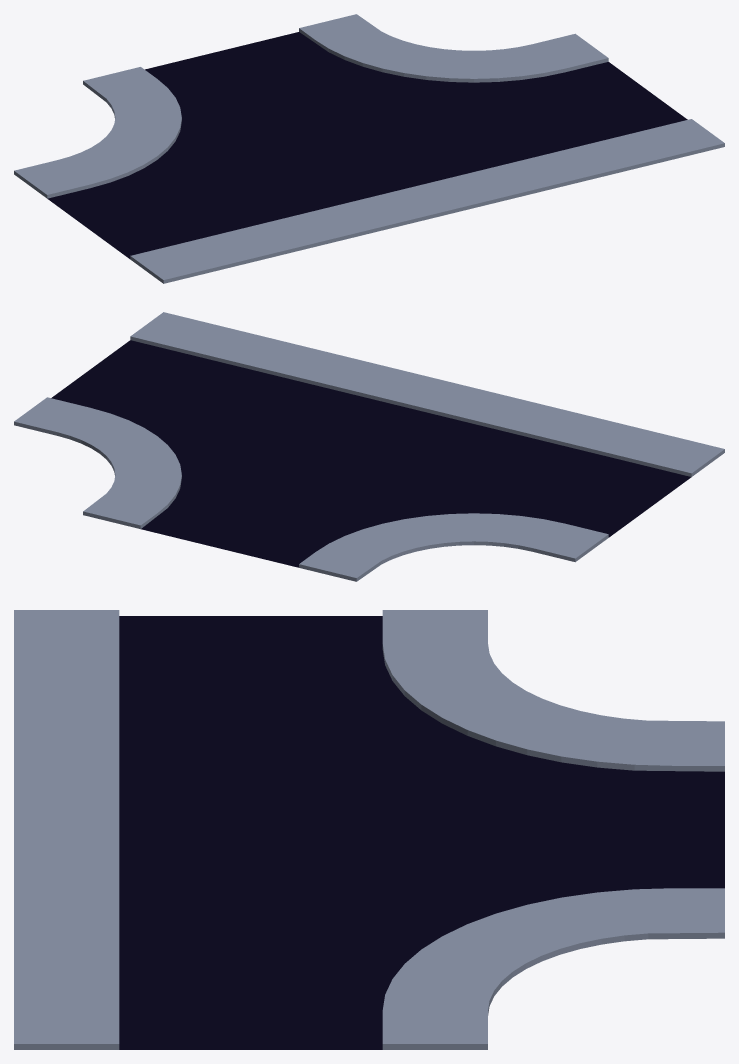
The model's file is T-intersection.fbx.
3 views of the same model, one above another, from view 1: azimuth 30°, elevation 25°; view 2: azimuth 150°, elevation 25°; view 3: azimuth 270°, elevation 25° (orthographic). The views are drawn at different scales.
Visible parts, largest first — view 1: T splitsing road, T splitsing; view 2: T splitsing road, T splitsing; view 3: T splitsing road, T splitsing.
Boxes of the visible parts, box(x1,y1,x2,y2) form: T splitsing road: box(47, 32, 687, 258); T splitsing: box(14, 14, 724, 283); T splitsing road: box(51, 340, 691, 567); T splitsing: box(14, 312, 724, 581); T splitsing road: box(119, 616, 724, 1049); T splitsing: box(14, 610, 724, 1049).
Size of the model in its own units: 3900 by 24.71 by 2700.
